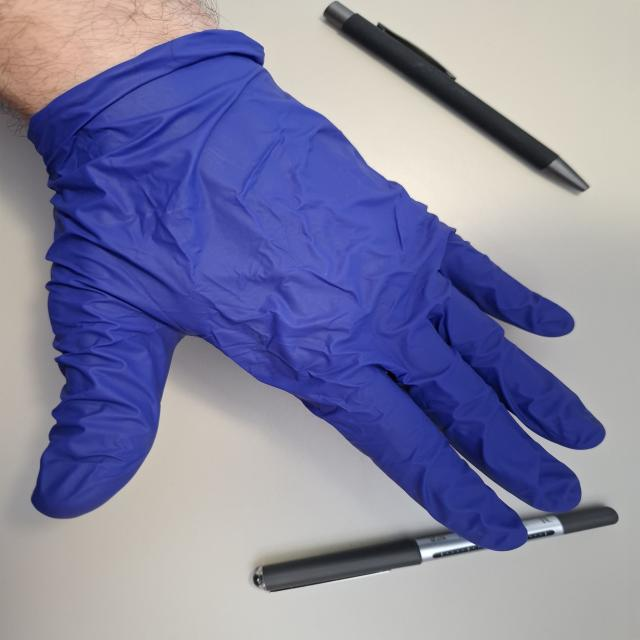glove_on: (20, 23, 612, 554)
